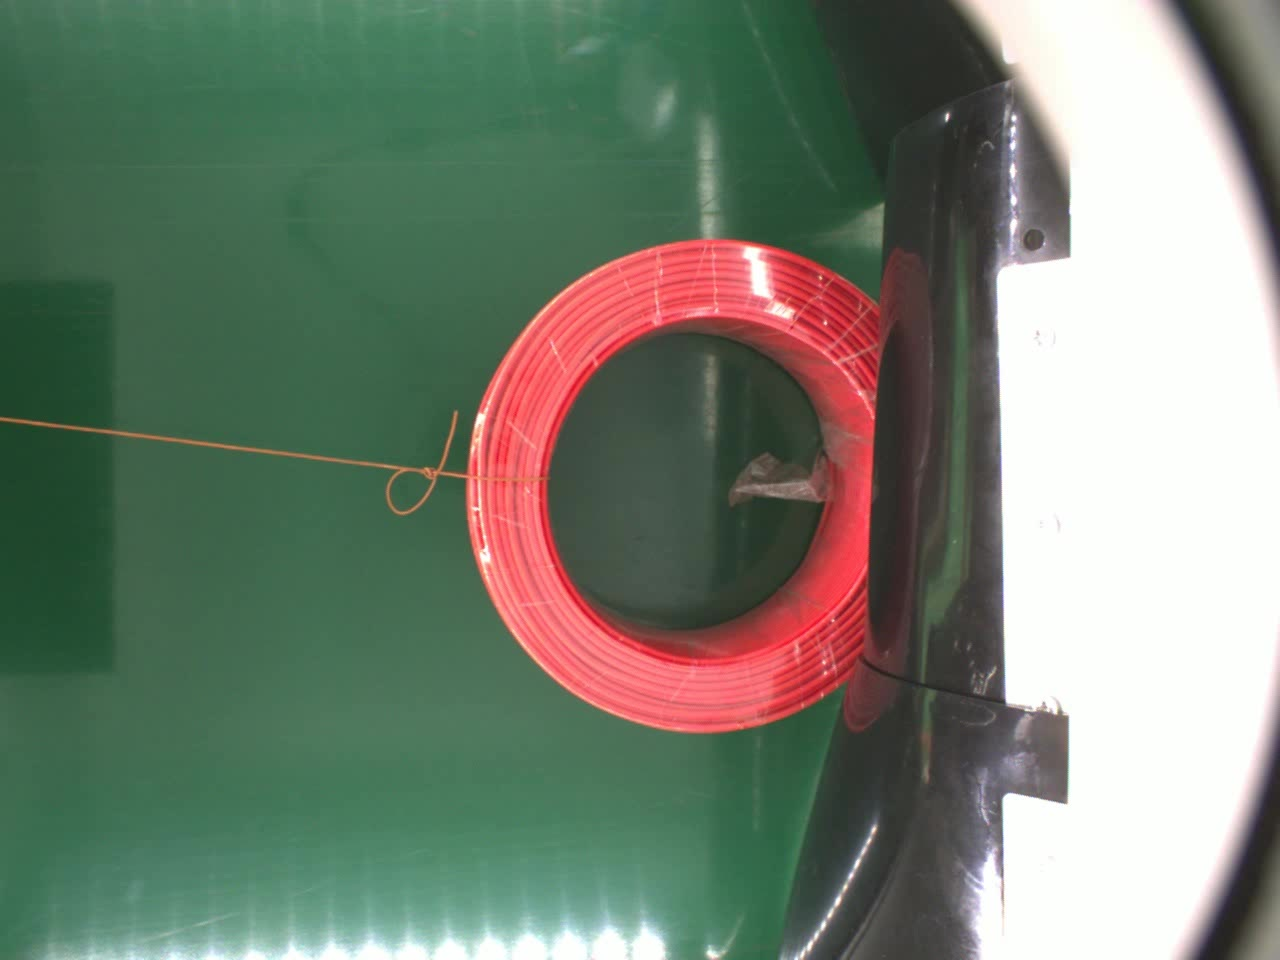red: (466, 236, 873, 733)
